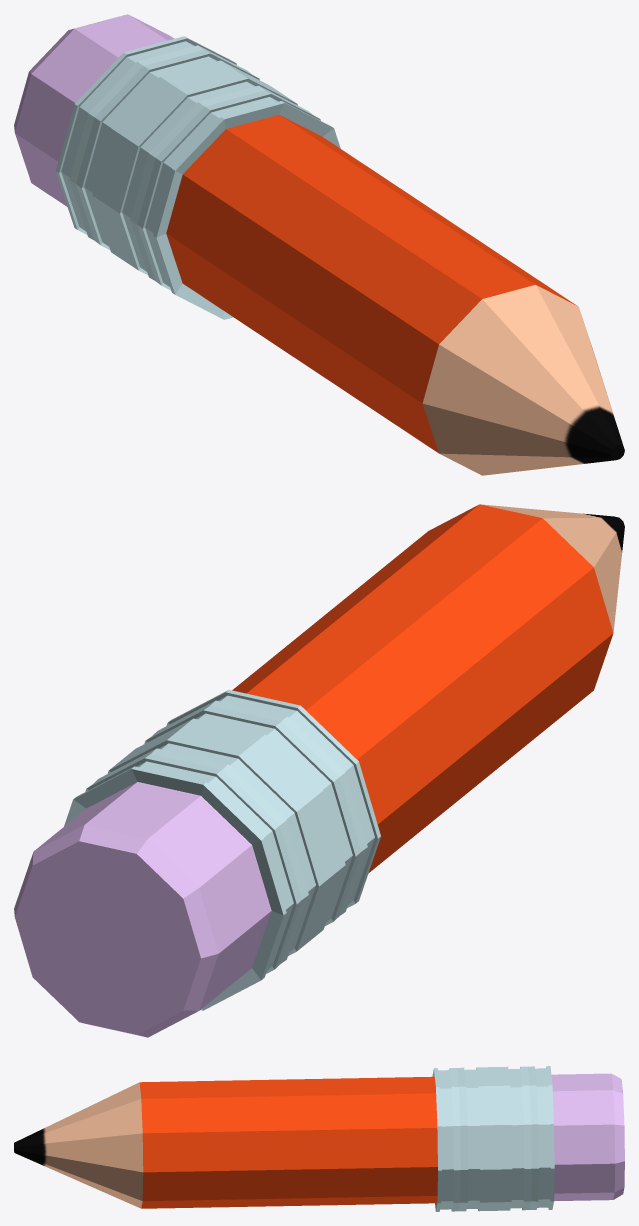
Rendered from pencil_3.glb.
3 views of the same model, one above another, from view 1: azimuth 30°, elevation 25°; view 2: azimuth 150°, elevation 25°; view 3: azimuth 270°, elevation 25° (orthographic). The views are drawn at different scales.
Visible parts, largest first — view 1: Object_2; view 2: Object_2; view 3: Object_2.
Boxes of the visible parts, x1,y1,x2,y2 form: Object_2: (14, 14, 624, 475); Object_2: (14, 504, 624, 1037); Object_2: (14, 1066, 624, 1211).
Bounding box in the file's own units: 1.2 × 1.07 × 4.76.
1 material, 1 textured.
